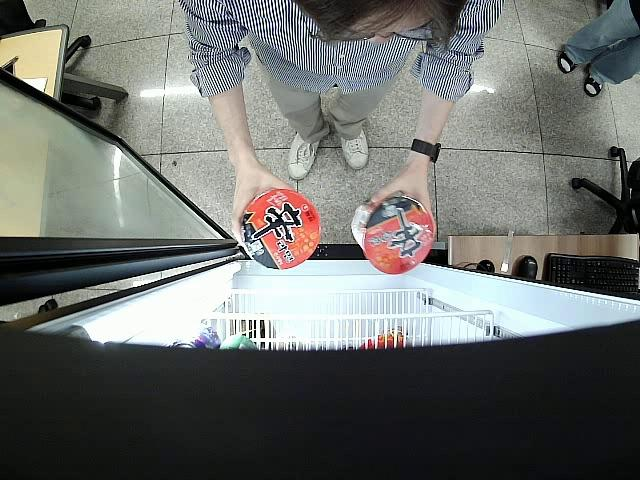00_hand: (231, 168, 297, 247), (371, 176, 437, 240)
01_shinRamen_L: (241, 189, 322, 269), (351, 197, 435, 274)
